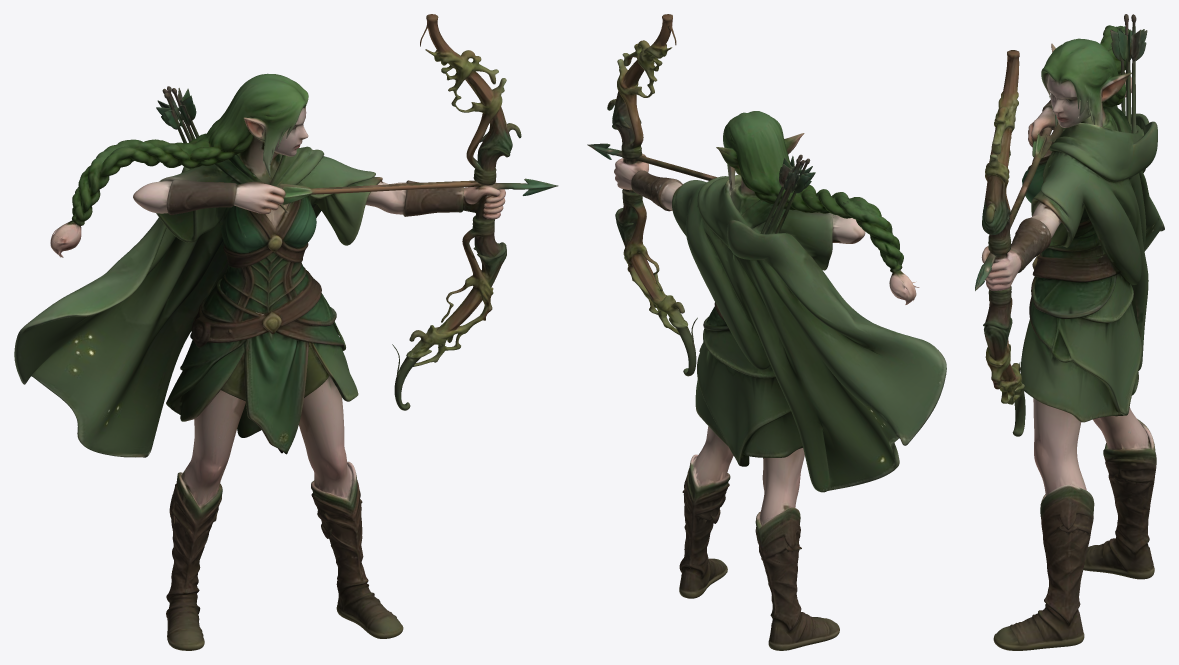
Rendered from hero_f_1.glb.
3 renders of one model, left to right at view 1: azimuth 30°, elevation 25°; view 2: azimuth 150°, elevation 25°; view 3: azimuth 270°, elevation 25°, orthographic. The views are drawn at different scales.
Parts seen in each view (by area): view 1: node_0; view 2: node_0; view 3: node_0.
Boxes of the visible parts, box(x1,y1,x2,y2) form: node_0: box(14, 14, 558, 650); node_0: box(587, 14, 946, 650); node_0: box(975, 14, 1164, 650).
Bounding box in the file's own units: 0.8781 × 1.08 × 0.3033.
Materials: 1 (1 with a texture image).
